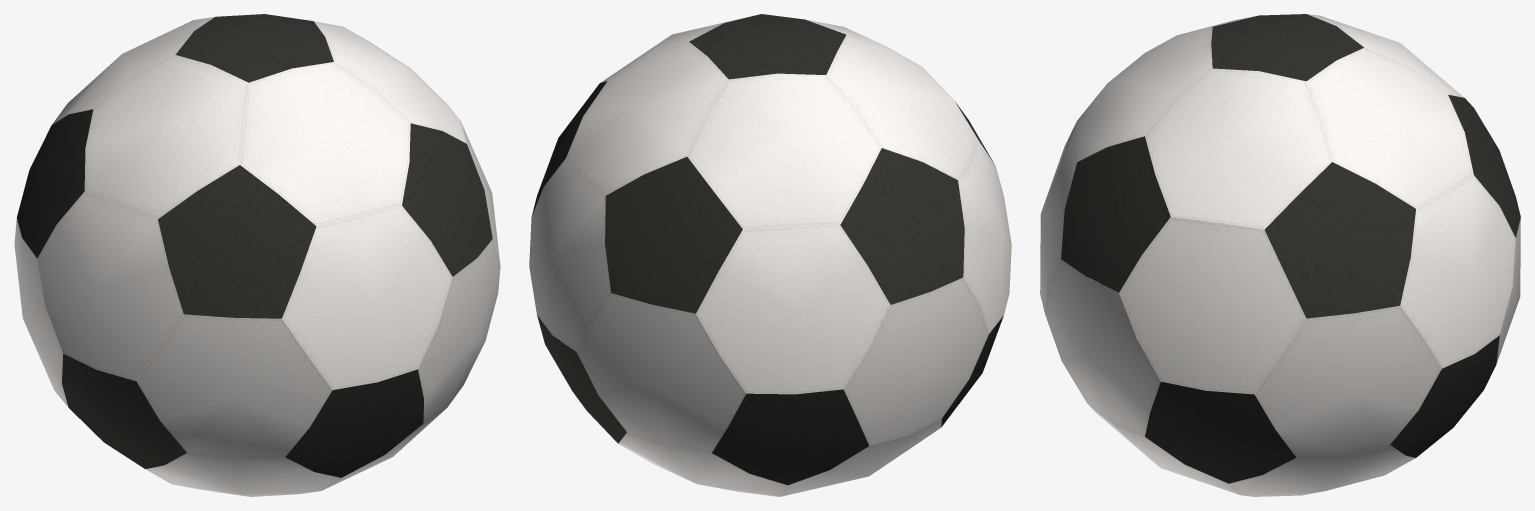
File: product_soccerBalls.glb
3 renders of one model, left to right at view 1: azimuth 30°, elevation 25°; view 2: azimuth 150°, elevation 25°; view 3: azimuth 270°, elevation 25°, orthographic.
Parts seen in each view (by area): view 1: soccer_ball; view 2: soccer_ball; view 3: soccer_ball.
Part boxes in pixels (x1,y1,x2,y2): soccer_ball: [14, 14, 500, 496]; soccer_ball: [529, 14, 1011, 496]; soccer_ball: [1040, 14, 1520, 496].
Bounding box in the file's own units: 2.44 × 2.44 × 2.4.
Materials: 1 (1 with a texture image).
